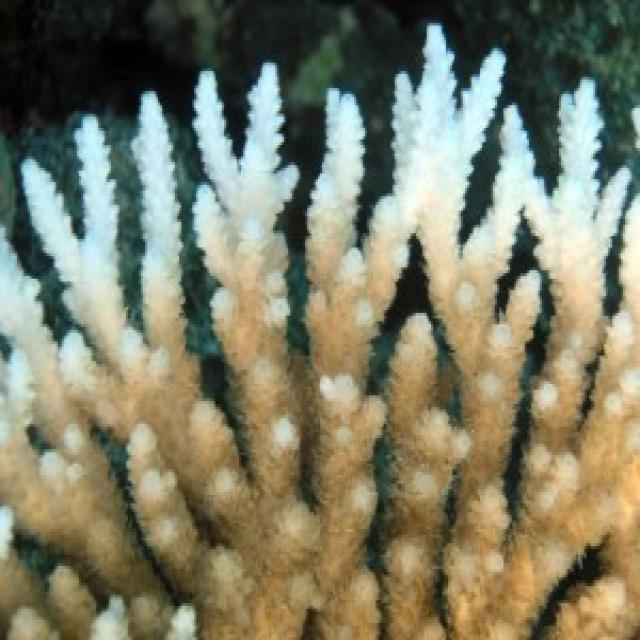Bleached: (1, 27, 639, 638)
